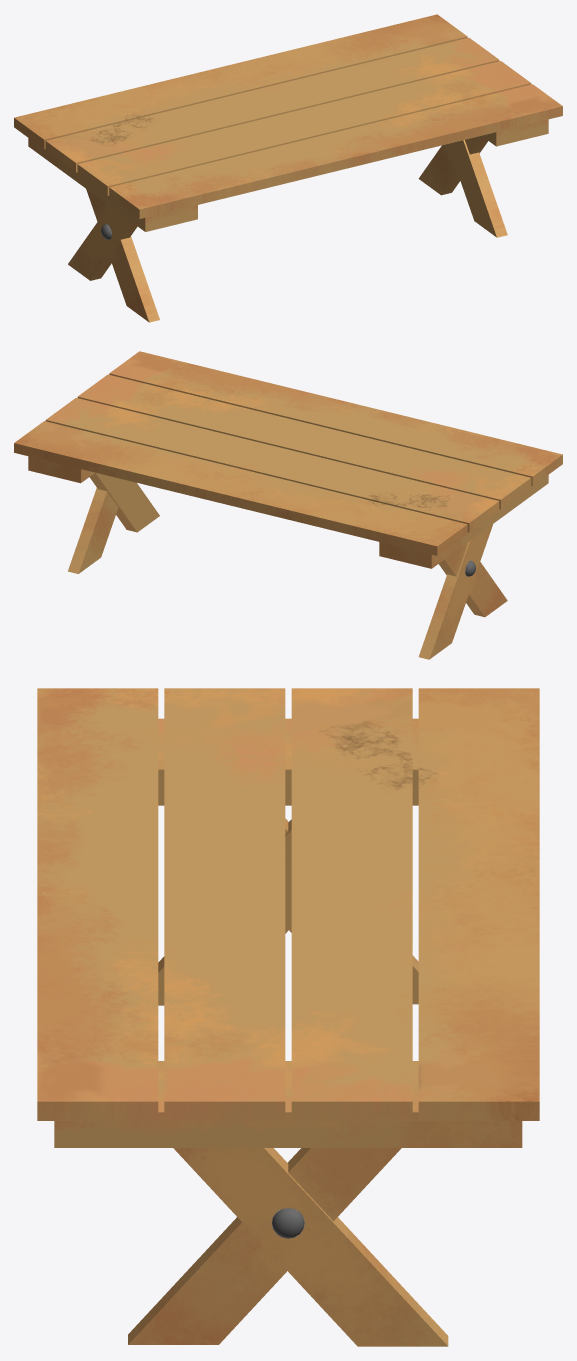
File: table.fbx
The picture shows the model from 3 angles, top to bottom: view 1: azimuth 30°, elevation 25°; view 2: azimuth 150°, elevation 25°; view 3: azimuth 270°, elevation 25°; orthographic projection. The views are drawn at different scales.
Visible parts, largest first — view 1: table_01_l; view 2: table_01_l; view 3: table_01_l.
Part boxes in pixels (x1,y1,x2,y2): table_01_l: (14,14,562,322); table_01_l: (14,351,562,659); table_01_l: (37,688,539,1346).
Bounding box in the file's own units: 2.81 × 0.8729 × 1.44.
1 material, 1 textured.
